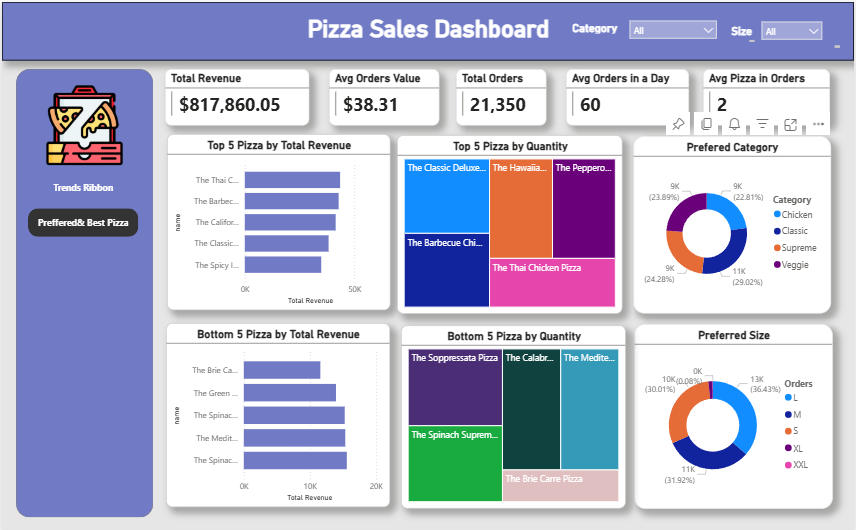

What the dashboard file says about the page in this screenshot:
{"tool":"powerbi","page":{"name":"Page 3","canvas":[1280,800],"ordinal":1},"visuals":[{"type":"group","id":"g1","title":"Border Dashboard","box":[0,0,1280.6,88.1],"z":0},{"type":"textbox","title":"Pizza Sales Dashboard","box":[0,0,1280.6,88.1],"z":0,"group":"g1"},{"type":"slicer","fields":{"Values":["Pizza Types.category"]},"box":[933.7,18.5,151.1,47.8],"z":0,"group":"g2"},{"type":"slicer","fields":{"Values":["Pizza Types.category"]},"box":[1133.7,19.6,110.9,48.9],"z":0,"group":"g4"},{"type":"shape","box":[21.3,100,206.4,674.5],"z":0,"group":"g5"},{"type":"multiRowCard","title":"Total Revenue","fields":{"Values":["All Measures.Total Sales"]},"box":[244.7,100,216.8,85.1],"z":0,"group":"g3"},{"type":"donutChart","title":"Prefered Category","fields":{"Y":["All Measures.Orders"],"Category":["Pizza Types.category"],"Series":["Pizza Types.category"]},"box":[244.4,203.7,500,257.4],"z":0,"group":"g6"},{"type":"group","id":"g2","title":"Group 3","box":[852.2,18.5,232.5,47.8],"z":1000,"group":"g1"},{"type":"textbox","title":"Category","box":[852.2,29.3,81.9,28.7],"z":1000,"group":"g2"},{"type":"textbox","title":"Size","box":[1092.4,32.6,44.6,31.5],"z":1000,"group":"g4"},{"type":"group","id":"g3","title":"KPI","box":[244.7,100,1000,85.1],"z":1000},{"type":"multiRowCard","title":"Total Orders","fields":{"Values":["All Measures.Orders"]},"box":[683,100,136.1,85.1],"z":1000,"group":"g3"},{"type":"image","box":[34.1,119.1,183,129.8],"z":1000,"group":"g5"},{"type":"donutChart","title":"Preferred Size","fields":{"Category":["Pizzas.size"],"Y":["All Measures.Orders"],"Series":["Pizzas.size"]},"box":[775.9,203.7,468.5,257.4],"z":1000,"group":"g6"},{"type":"group","id":"g4","title":"Group 2","box":[1092.4,19.6,152.2,48.9],"z":2000,"group":"g1"},{"type":"group","id":"g5","title":"Button Ribbon","box":[21.3,100,206.4,674.5],"z":2000},{"type":"multiRowCard","title":"Avg Pizza in Orders","fields":{"Values":["All Measures.Avg pizza in order"]},"box":[1053.2,100,191.5,85.1],"z":2000,"group":"g3"},{"type":"tableEx","title":"Top 5 Pizza by Sales","fields":{"Values":["Pizza Types.category","Pizza Types.name","All Measures.Total Sales"]},"box":[244.5,477.1,506,297.6],"z":2000,"group":"g6"},{"type":"multiRowCard","title":"Avg Orders in a Day","fields":{"Values":["All Measures.Avg orders in a day"]},"box":[847.5,100,185.1,85.1],"z":3000,"group":"g3"},{"type":"group","id":"g6","title":"Preffered & Best Pizza","box":[244.4,203.7,1000.1,571],"z":3000},{"type":"tableEx","title":"Bottom 5 Pizza by Sales","fields":{"Values":["Pizza Types.category","Pizza Types.name","All Measures.Total Sales"]},"box":[773.4,477.1,471.1,297.6],"z":3000,"group":"g6"},{"type":"multiRowCard","title":"Avg Orders Value","fields":{"Values":["All Measures.Avg Order Value"]},"box":[491.5,100,166.1,85.1],"z":4000,"group":"g3"}]}

Visuals, with their boxes in screenshot pixels (x1, y1, x2, y2), scaled from the page's 1280x800 canvas onto the 856x530 screenshot:
"Border Dashboard" group: locate(0, 0, 855, 58)
"Pizza Sales Dashboard" textbox: locate(0, 0, 855, 58)
slicer - Pizza Types.category: locate(624, 12, 725, 44)
slicer - Pizza Types.category: locate(758, 13, 832, 45)
shape: locate(14, 66, 152, 513)
"Total Revenue" multiRowCard: locate(164, 66, 309, 123)
"Prefered Category" donutChart: locate(163, 135, 498, 305)
"Group 3" group: locate(570, 12, 725, 44)
"Category" textbox: locate(570, 19, 625, 38)
"Size" textbox: locate(731, 22, 760, 42)
"KPI" group: locate(164, 66, 832, 123)
"Total Orders" multiRowCard: locate(457, 66, 548, 123)
image: locate(23, 79, 145, 165)
"Preferred Size" donutChart: locate(519, 135, 832, 305)
"Group 2" group: locate(731, 13, 832, 45)
"Button Ribbon" group: locate(14, 66, 152, 513)
"Avg Pizza in Orders" multiRowCard: locate(704, 66, 832, 123)
"Top 5 Pizza by Sales" tableEx: locate(164, 316, 502, 513)
"Avg Orders in a Day" multiRowCard: locate(567, 66, 691, 123)
"Preffered & Best Pizza" group: locate(163, 135, 832, 513)
"Bottom 5 Pizza by Sales" tableEx: locate(517, 316, 832, 513)
"Avg Orders Value" multiRowCard: locate(329, 66, 440, 123)
